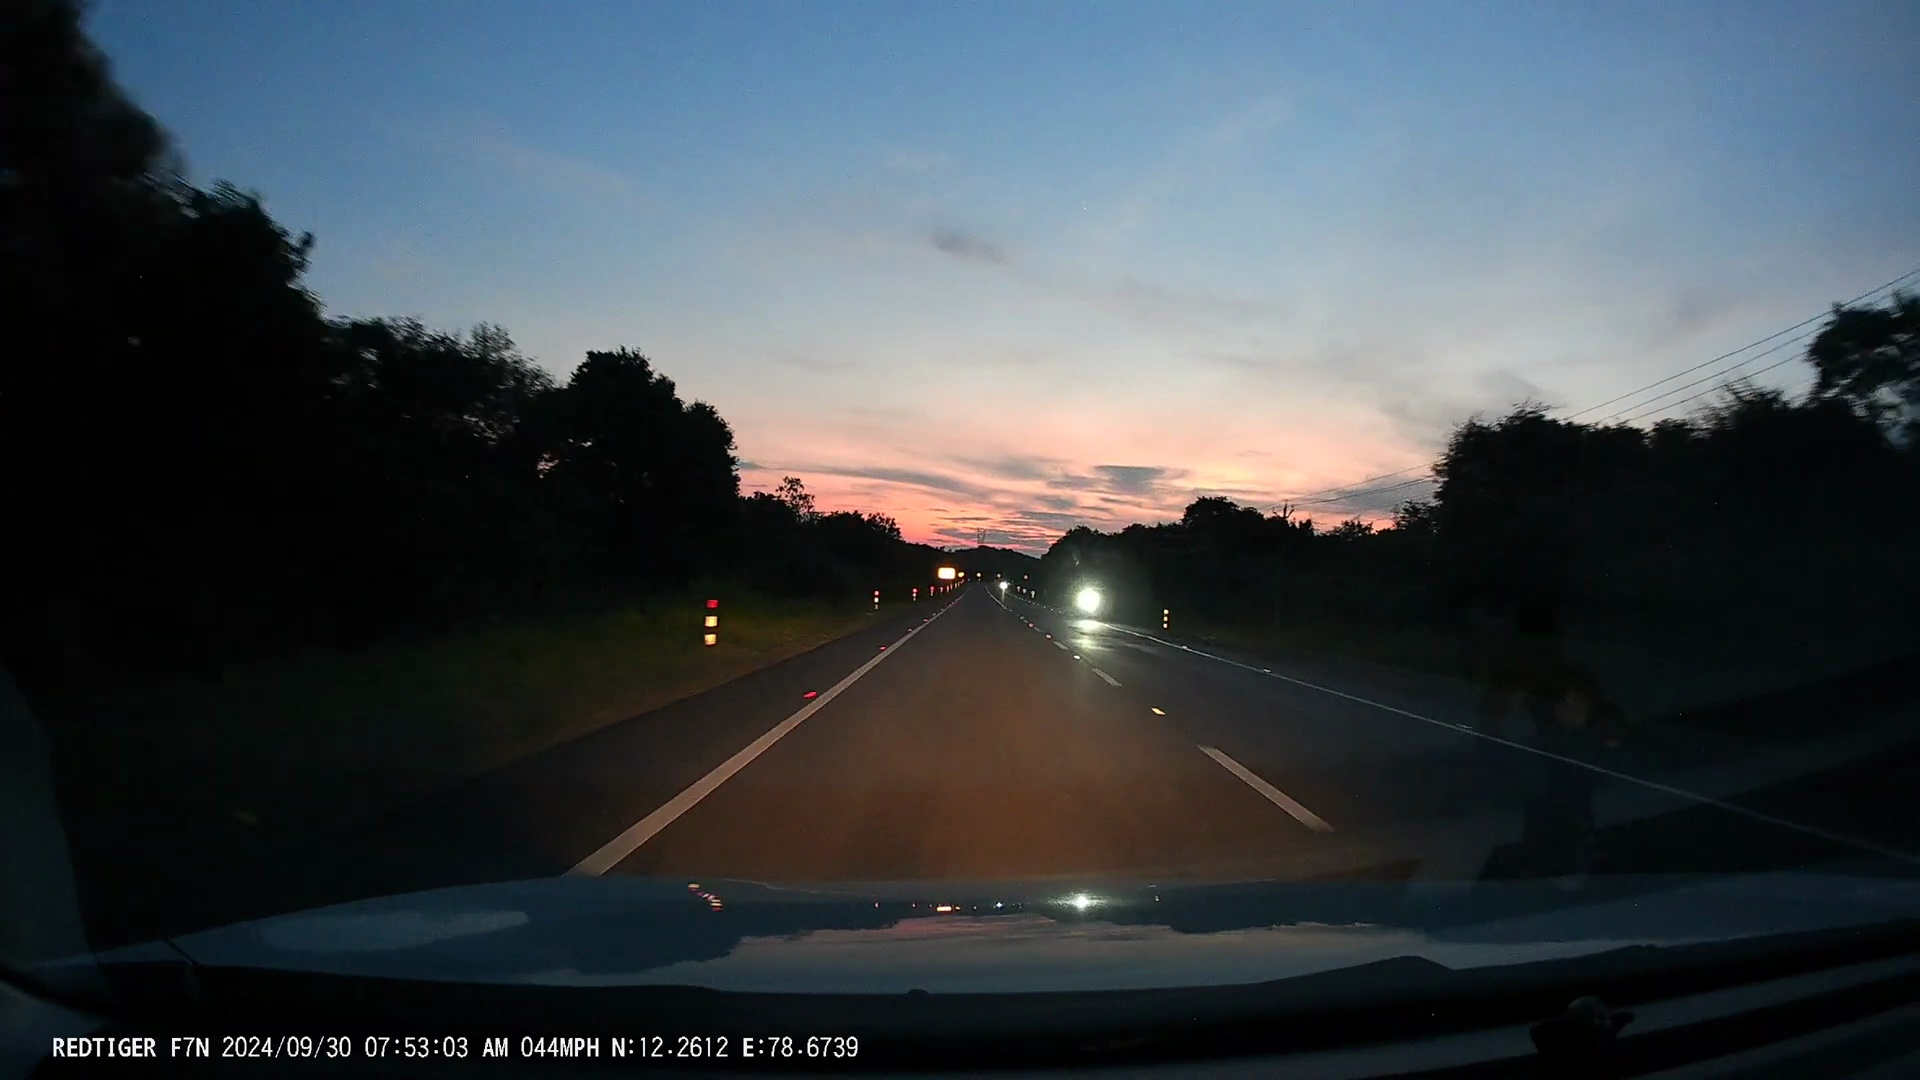headlight: (1075, 589, 1102, 611), (997, 580, 1009, 591)
two wheeler: (1072, 570, 1105, 622), (997, 570, 1014, 611)
